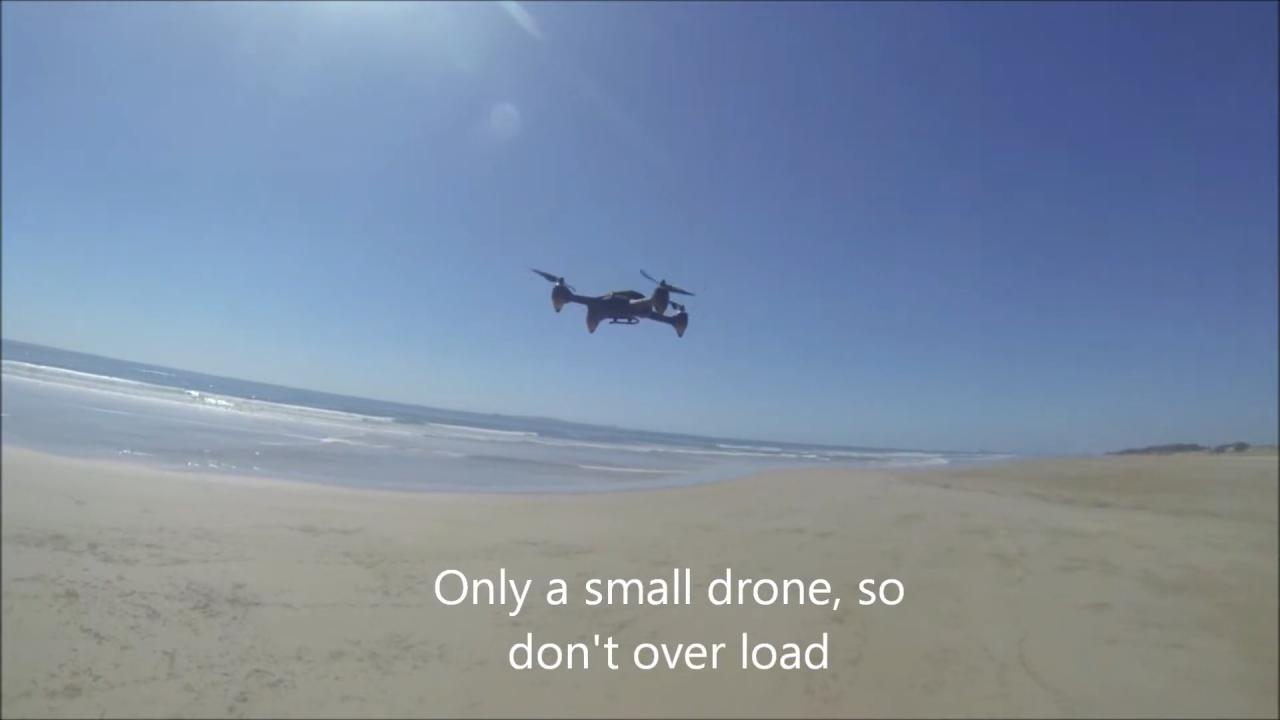Drone: (520, 256, 706, 350)
